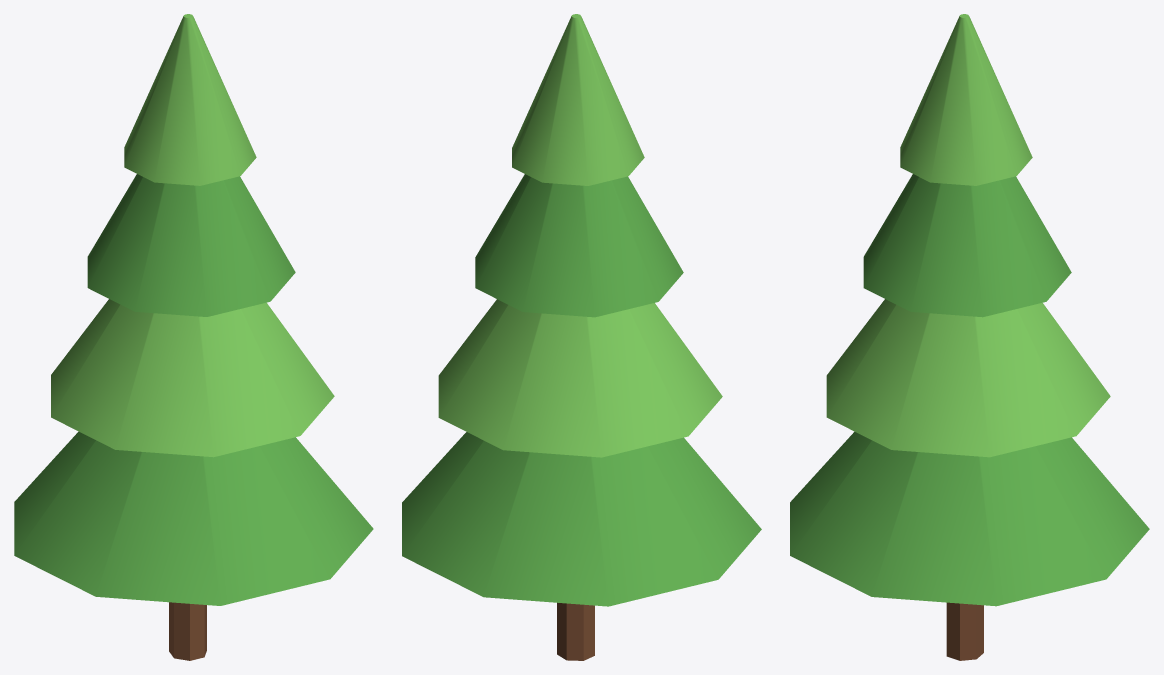
Rendered from tree_b.glb.
3 renders of one model, left to right at view 1: azimuth 30°, elevation 25°; view 2: azimuth 150°, elevation 25°; view 3: azimuth 270°, elevation 25°, orthographic.
Parts seen in each view (by area): view 1: tree_b; view 2: tree_b; view 3: tree_b.
Part boxes in pixels (x1,y1,x2,y2): tree_b: [14, 14, 373, 660]; tree_b: [402, 14, 761, 660]; tree_b: [790, 14, 1149, 660].
Size of the model in its own units: 3.74 by 7.2 by 3.69.
